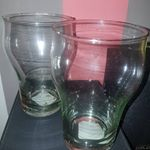cups: (48, 18, 150, 149), (2, 11, 79, 121)
